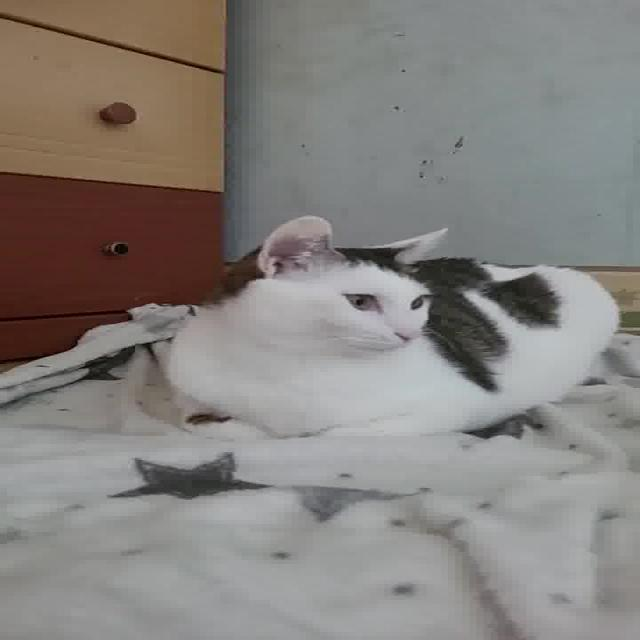cat: (157, 217, 630, 446)
